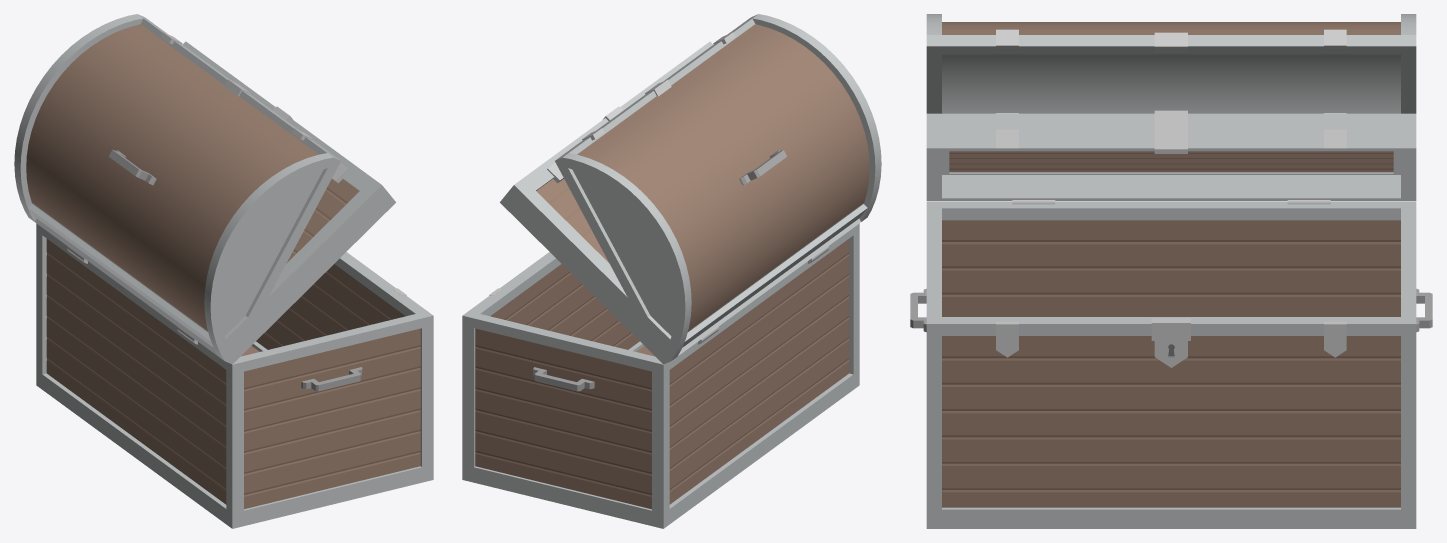
Rendered from treasure_chest_C.fbx.
The picture shows the model from 3 angles, left to right: view 1: azimuth 30°, elevation 25°; view 2: azimuth 150°, elevation 25°; view 3: azimuth 270°, elevation 25°; orthographic projection. The views are drawn at different scales.
Visible parts, largest first — view 1: treasure_chest_C_top_A_frames, treasure_chest_C_boards, treasure_chest_C2, treasure_chest_C_top_B, treasure_chest_C_top_B_boards, treasure_chest_C_handles, treasure_chest_C_top_A_handle; view 2: treasure_chest_C_top_A_frames, treasure_chest_C_boards, treasure_chest_C2, treasure_chest_C_top_B, treasure_chest_C_top_B_boards, treasure_chest_C_handles, treasure_chest_C_top_A_handle; view 3: treasure_chest_C_boards, treasure_chest_C_top_A_frames, treasure_chest_C2, treasure_chest_C_top_B, treasure_chest_C_top_B_boards, treasure_chest_C_handles.
Part boxes in pixels (x1=…): treasure_chest_C_top_A_frames: x1=14, y1=14, x2=340, y2=363; treasure_chest_C_boards: x1=46, y1=239, x2=420, y2=509; treasure_chest_C2: x1=36, y1=223, x2=433, y2=528; treasure_chest_C_top_B: x1=28, y1=41, x2=395, y2=363; treasure_chest_C_top_B_boards: x1=286, y1=179, x2=359, y2=263; treasure_chest_C_handles: x1=301, y1=367, x2=362, y2=391; treasure_chest_C_top_A_handle: x1=109, y1=149, x2=156, y2=185; treasure_chest_C_top_A_frames: x1=555, y1=14, x2=881, y2=363; treasure_chest_C_boards: x1=475, y1=239, x2=849, y2=509; treasure_chest_C2: x1=462, y1=223, x2=859, y2=528; treasure_chest_C_top_B: x1=500, y1=41, x2=867, y2=364; treasure_chest_C_top_B_boards: x1=536, y1=179, x2=609, y2=263; treasure_chest_C_handles: x1=533, y1=367, x2=594, y2=391; treasure_chest_C_top_A_handle: x1=739, y1=149, x2=786, y2=185; treasure_chest_C_boards: x1=942, y1=220, x2=1400, y2=507; treasure_chest_C_top_A_frames: x1=926, y1=14, x2=1416, y2=113; treasure_chest_C2: x1=926, y1=201, x2=1416, y2=528; treasure_chest_C_top_B: x1=926, y1=110, x2=1416, y2=204; treasure_chest_C_top_B_boards: x1=949, y1=151, x2=1393, y2=172; treasure_chest_C_handles: x1=910, y1=288, x2=1432, y2=332.
Bounding box in the file's own units: 82.12 × 122 × 132.
